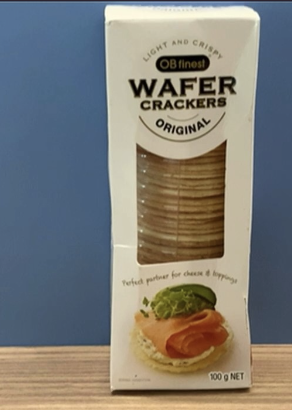crackers_150g: (120, 27, 249, 384)
